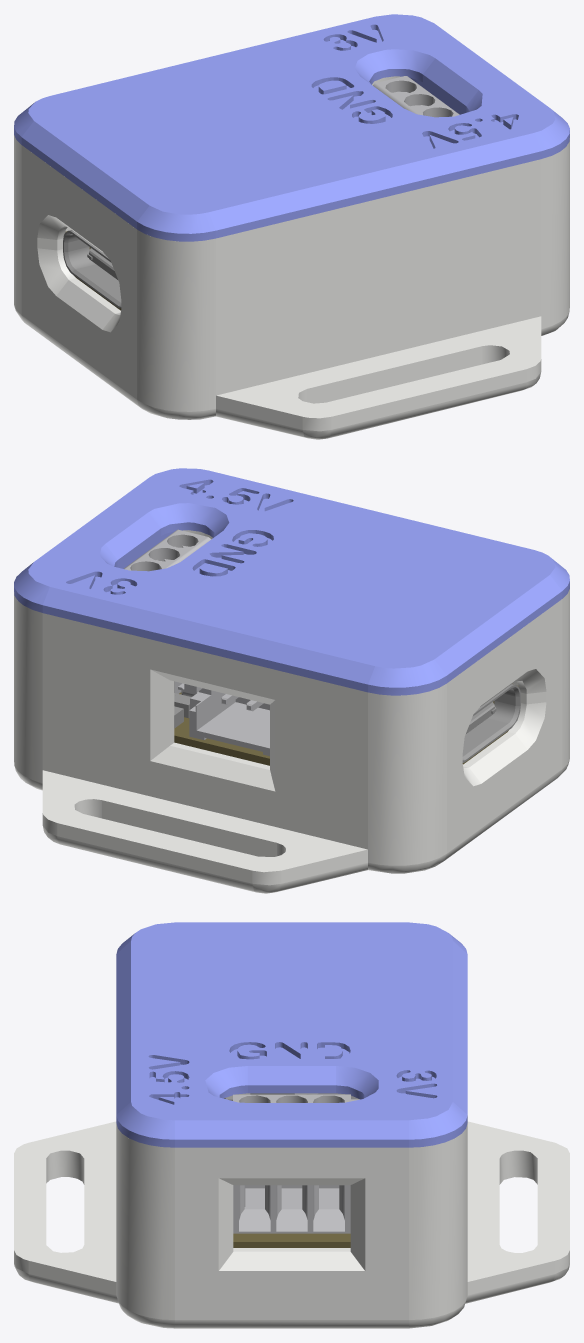
File: ada-6124.glb
3 renders of one model, top to bottom at view 1: azimuth 30°, elevation 25°; view 2: azimuth 150°, elevation 25°; view 3: azimuth 270°, elevation 25°, orthographic.
Visible parts, largest first — view 1: 0.9166666666666666_0.9166666666666666_0.9166666666666666_0.8, 0.3333333333333333_0.4166666666666667_1_0, 0.3333333333333333_0.3333333333333333_0.3333333333333333_0, 0.5833333333333334_0.5833333333333334_0.5833333333333334_0.8; view 2: 0.9166666666666666_0.9166666666666666_0.9166666666666666_0.8, 0.3333333333333333_0.4166666666666667_1_0, 0.5833333333333334_0.5833333333333334_0.5833333333333334_0.8, 0.3333333333333333_0.3333333333333333_0.3333333333333333_0, 0.16666666666666666_0.16666666666666666_0.08333333333333333_; view 3: 0.9166666666666666_0.9166666666666666_0.9166666666666666_0.8, 0.3333333333333333_0.4166666666666667_1_0, 0.5833333333333334_0.5833333333333334_0.5833333333333334_0.8, 0.16666666666666666_0.16666666666666666_0.08333333333333333_.
Part boxes in pixels (bbox=[...]): 0.9166666666666666_0.9166666666666666_0.9166666666666666_0.8: bbox=[14, 76, 569, 439]; 0.3333333333333333_0.4166666666666667_1_0: bbox=[14, 14, 569, 241]; 0.3333333333333333_0.3333333333333333_0.3333333333333333_0: bbox=[63, 230, 121, 308]; 0.5833333333333334_0.5833333333333334_0.5833333333333334_0.8: bbox=[373, 76, 459, 117]; 0.9166666666666666_0.9166666666666666_0.9166666666666666_0.8: bbox=[14, 530, 569, 893]; 0.3333333333333333_0.4166666666666667_1_0: bbox=[14, 468, 569, 695]; 0.5833333333333334_0.5833333333333334_0.5833333333333334_0.8: bbox=[124, 529, 269, 756]; 0.3333333333333333_0.3333333333333333_0.3333333333333333_0: bbox=[174, 684, 520, 762]; 0.16666666666666666_0.16666666666666666_0.08333333333333333_: bbox=[174, 683, 518, 765]; 0.9166666666666666_0.9166666666666666_0.9166666666666666_0.8: bbox=[14, 1121, 569, 1328]; 0.3333333333333333_0.4166666666666667_1_0: bbox=[116, 922, 467, 1147]; 0.5833333333333334_0.5833333333333334_0.5833333333333334_0.8: bbox=[233, 1093, 359, 1233]; 0.16666666666666666_0.16666666666666666_0.08333333333333333_: bbox=[224, 1098, 350, 1247].
Bounding box in the file's own units: 3.4 × 1.56 × 3.8.
